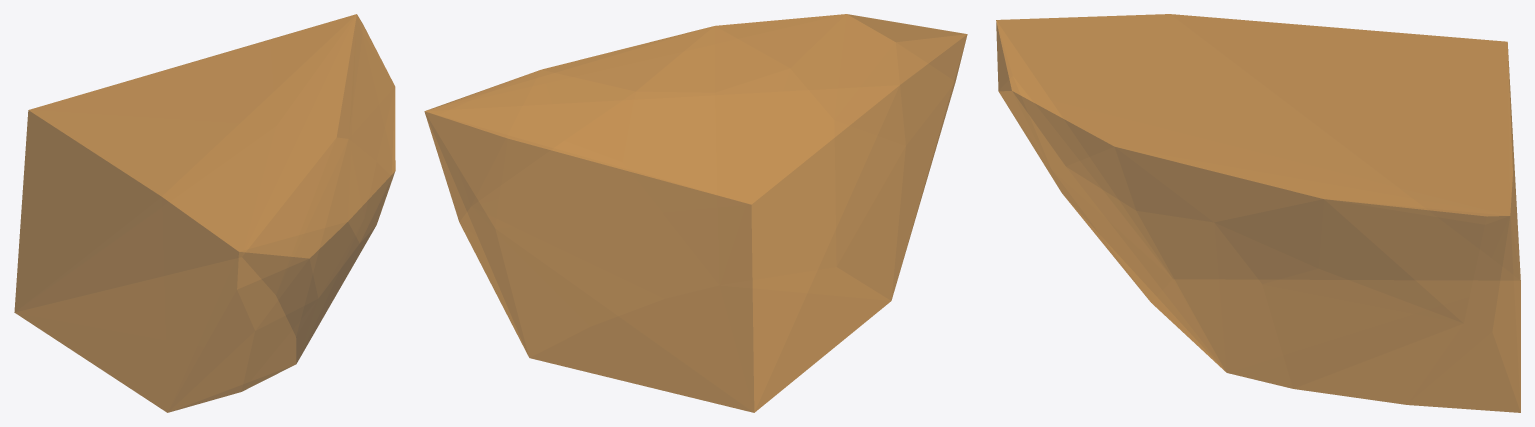
3 renders of one model, left to right at view 1: azimuth 30°, elevation 25°; view 2: azimuth 150°, elevation 25°; view 3: azimuth 270°, elevation 25°, orthographic. The views are drawn at different scales.
Visible parts, largest first — view 1: Shape_IndexedFaceSet.011_Shape_IndexedFaceSet.3349; view 2: Shape_IndexedFaceSet.011_Shape_IndexedFaceSet.3349; view 3: Shape_IndexedFaceSet.011_Shape_IndexedFaceSet.3349.
Boxes of the visible parts, left/top/right/bottom form: Shape_IndexedFaceSet.011_Shape_IndexedFaceSet.3349: left=14, top=14, right=395, bottom=412; Shape_IndexedFaceSet.011_Shape_IndexedFaceSet.3349: left=424, top=14, right=967, bottom=412; Shape_IndexedFaceSet.011_Shape_IndexedFaceSet.3349: left=996, top=14, right=1520, bottom=412.
Bounding box in the file's own units: 0.4063 × 0.2569 × 0.4582.
